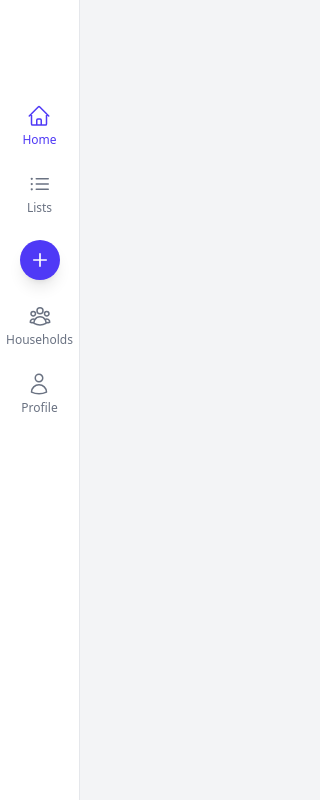
Test: BottomNav › Add Button › opens dropdown menu when add button is clicked
Click the button named "add new item" at point(40, 260), box [20,240,60,280]
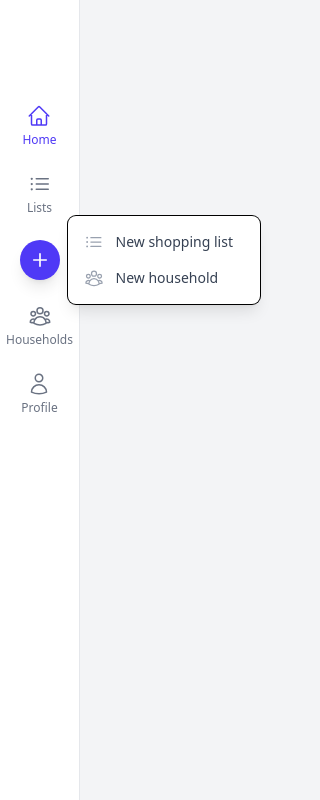
Now the menu item "New shopping list" is shown, box [68,224,260,260]
